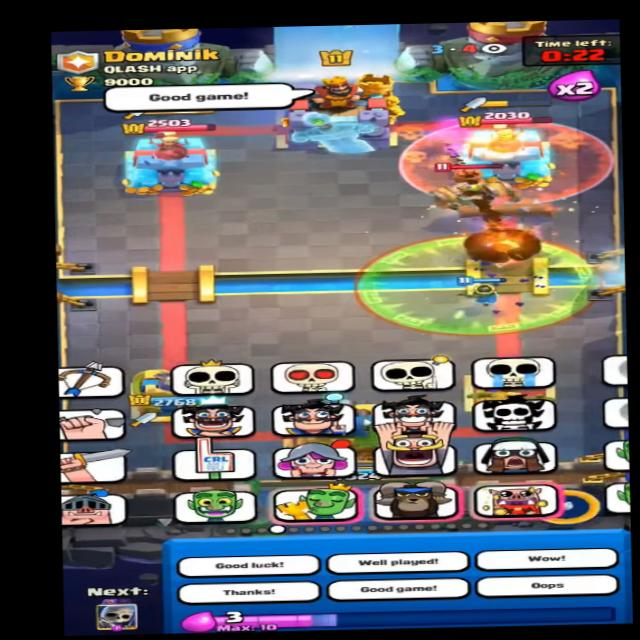goblin-curse: (351, 236, 599, 339)
goblin-machine: (432, 163, 525, 222)
